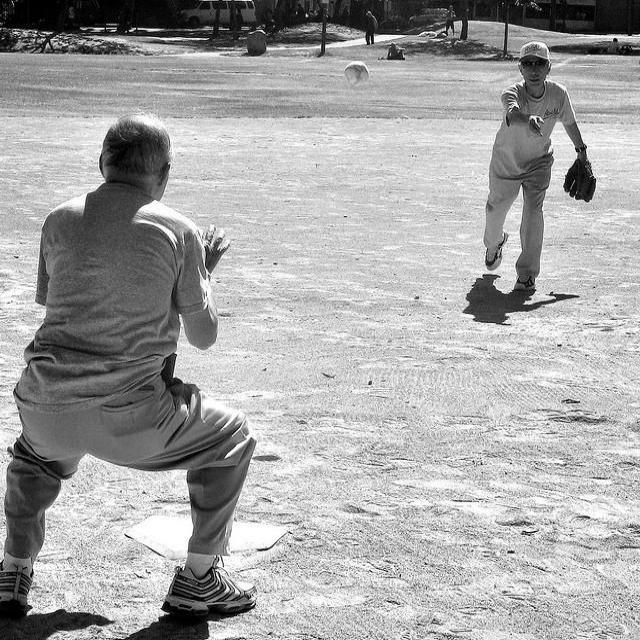vehicle: (173, 0, 256, 27), (409, 9, 446, 26)
